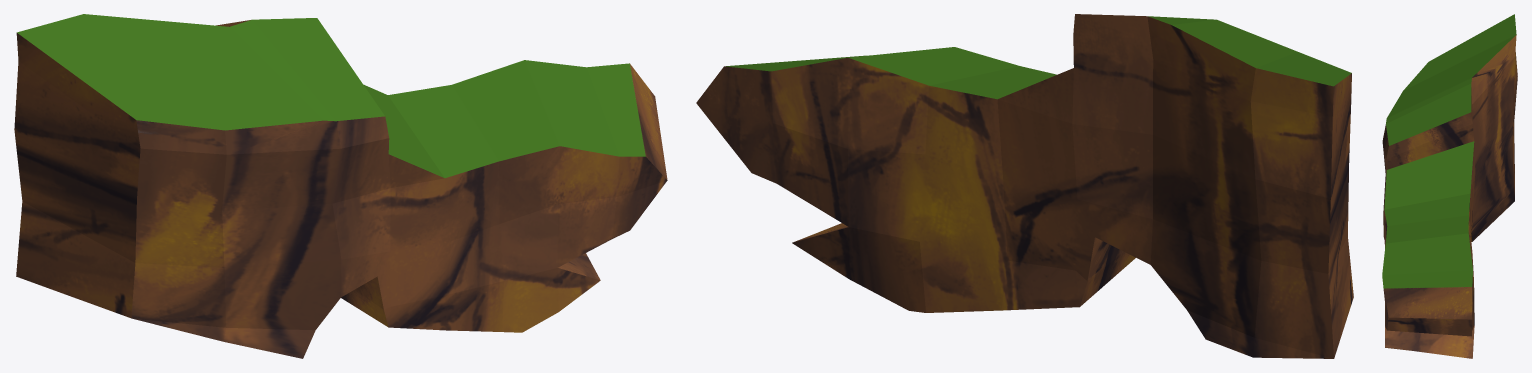
Rendered from sali101.obj.
3 renders of one model, left to right at view 1: azimuth 30°, elevation 25°; view 2: azimuth 150°, elevation 25°; view 3: azimuth 270°, elevation 25°, orthographic. The views are drawn at different scales.
Parts seen in each view (by area): view 1: Plane.062_Plane.068; view 2: Plane.062_Plane.068; view 3: Plane.062_Plane.068.
Boxes of the visible parts, x1,y1,x2,y2 form: Plane.062_Plane.068: (14,14,667,358); Plane.062_Plane.068: (696,14,1353,358); Plane.062_Plane.068: (1382,14,1517,358).
Bounding box in the file's own units: 138 × 71.88 × 42.29.
1 material, 1 textured.
